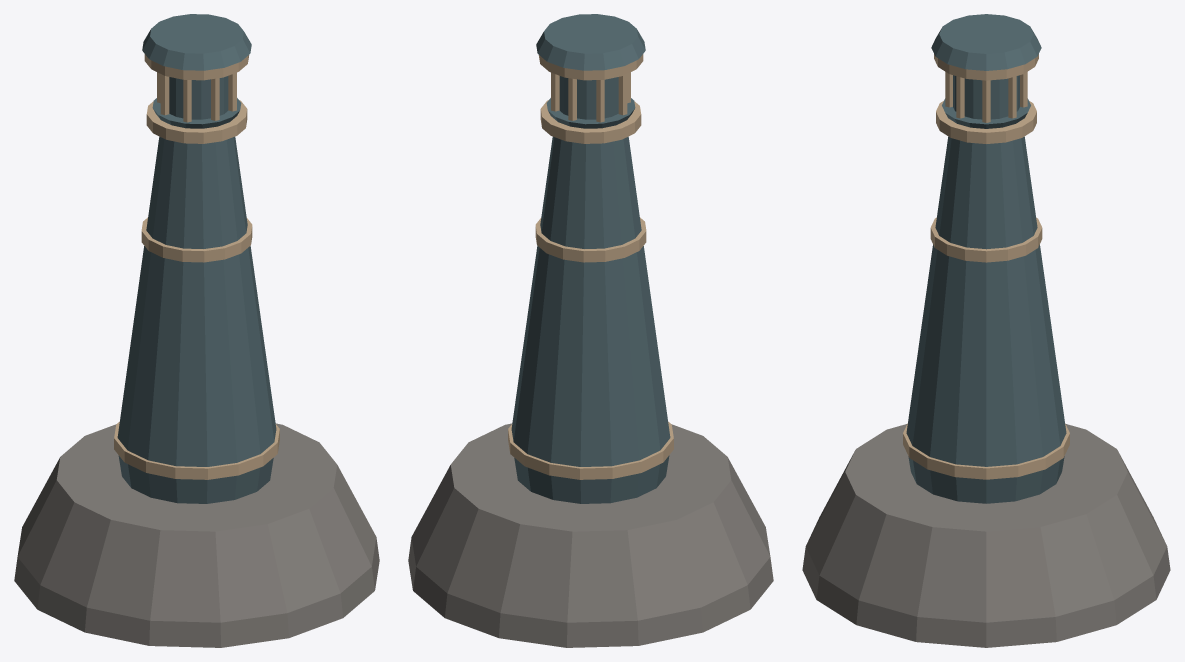
The model's file is beacon-v1.glb.
3 renders of one model, left to right at view 1: azimuth 30°, elevation 25°; view 2: azimuth 150°, elevation 25°; view 3: azimuth 270°, elevation 25°, orthographic.
Parts seen in each view (by area): view 1: beacon-v1; view 2: beacon-v1; view 3: beacon-v1.
Part boxes in pixels (bbox=[...]): beacon-v1: bbox=[14, 14, 379, 647]; beacon-v1: bbox=[408, 14, 773, 647]; beacon-v1: bbox=[802, 14, 1170, 647].
Size of the model in its own units: 5.6 by 9 by 5.6.
